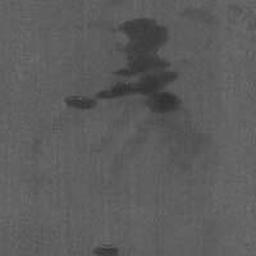Oil spot: (29, 0, 215, 188), (92, 242, 120, 256), (142, 253, 159, 256)
